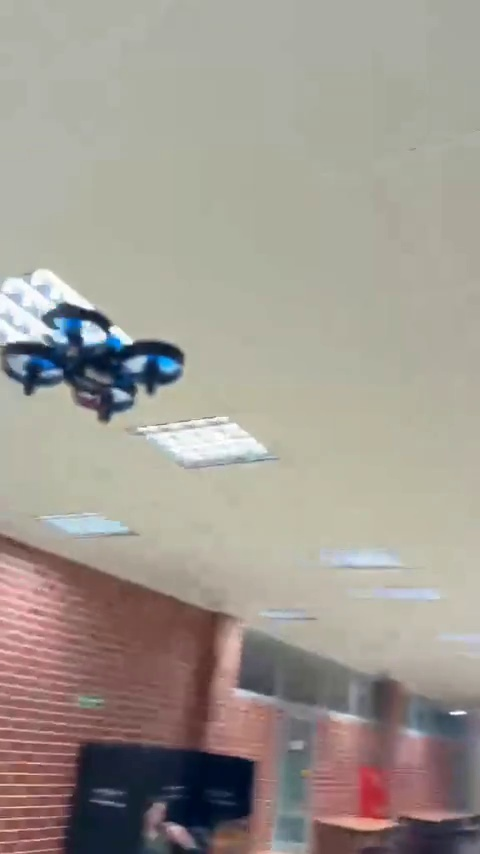drone: (3, 303, 176, 426)
